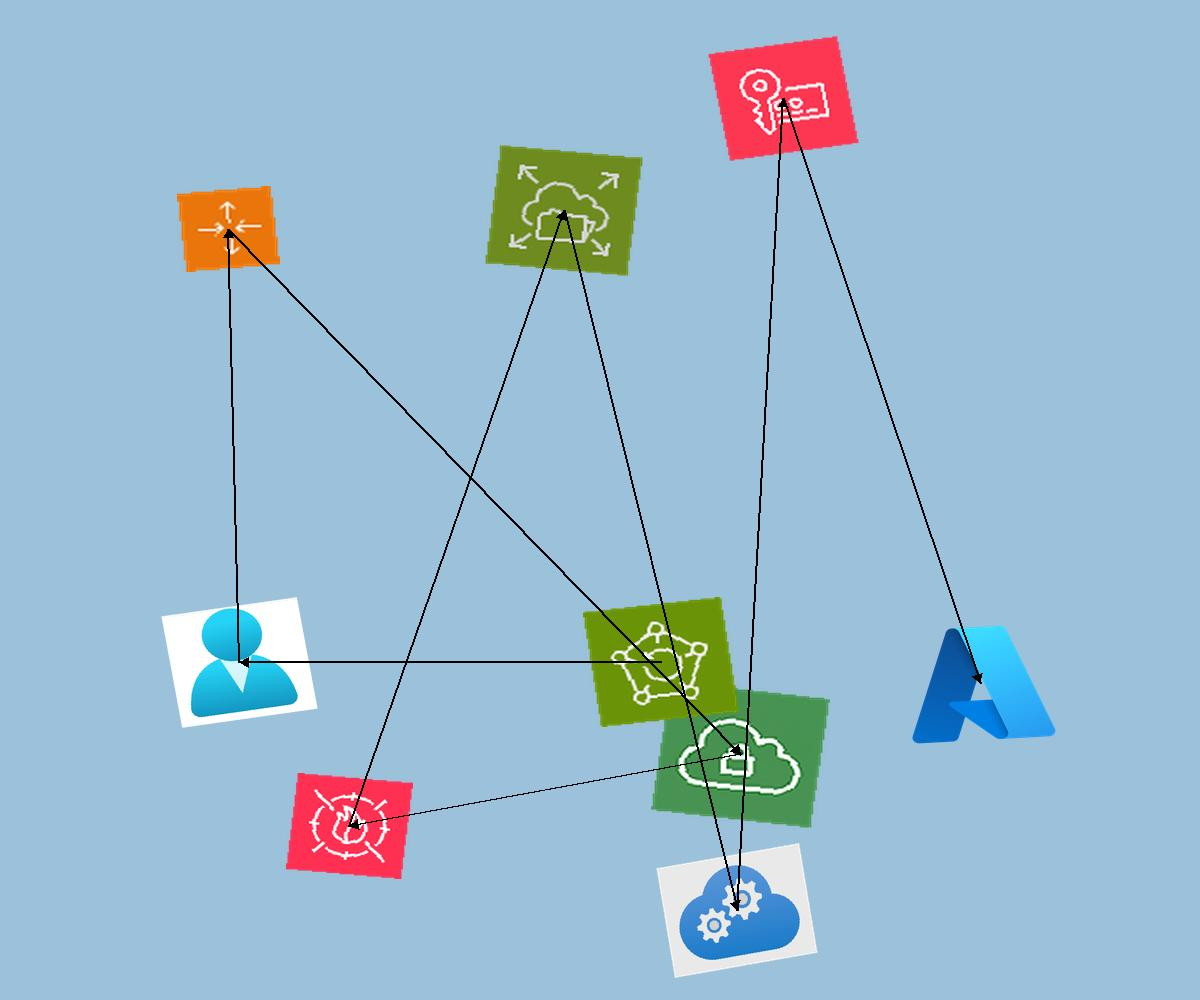AWS-Backup: (583, 597, 739, 727)
AWS-EFS: (484, 144, 644, 277)
AWS-Key-Management-Service: (707, 35, 860, 162)
AWS-Private_vpc: (651, 680, 830, 829)
AWS-Scaling-group: (177, 186, 280, 272)
AWS-WAF: (286, 773, 413, 879)
Azure_cloud_services: (656, 843, 818, 978)
Azure_services: (897, 614, 1063, 753)
Azure_users: (161, 597, 318, 728)
